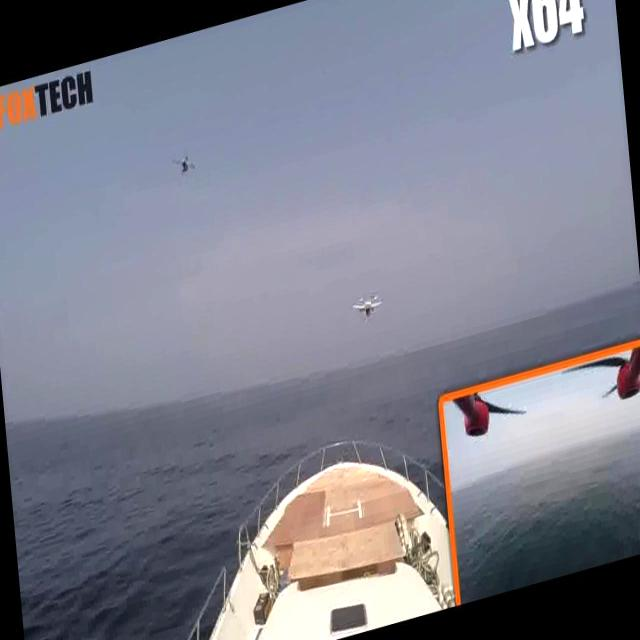drone: (348, 284, 387, 323)
